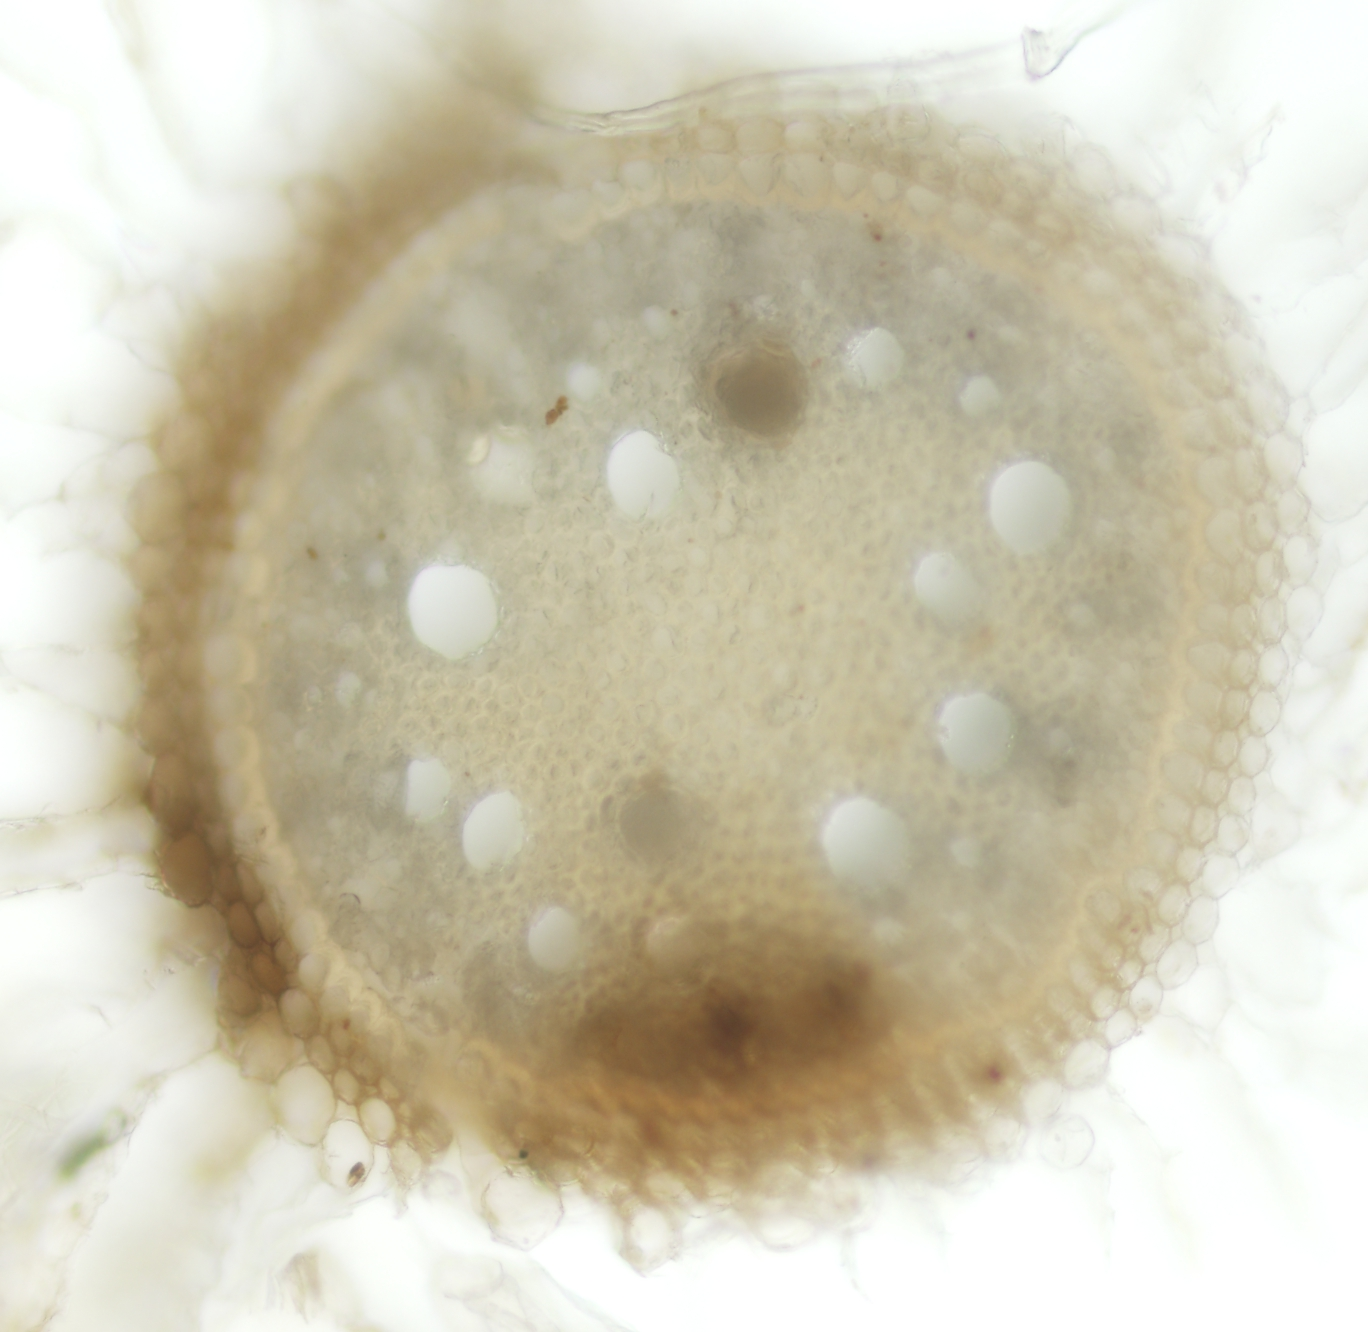lm: (821, 795, 915, 895), (408, 560, 500, 661), (989, 457, 1070, 560), (605, 429, 685, 526), (934, 690, 1020, 781), (463, 792, 529, 874), (912, 549, 987, 621), (846, 328, 908, 396), (526, 908, 583, 975), (397, 759, 451, 824)
